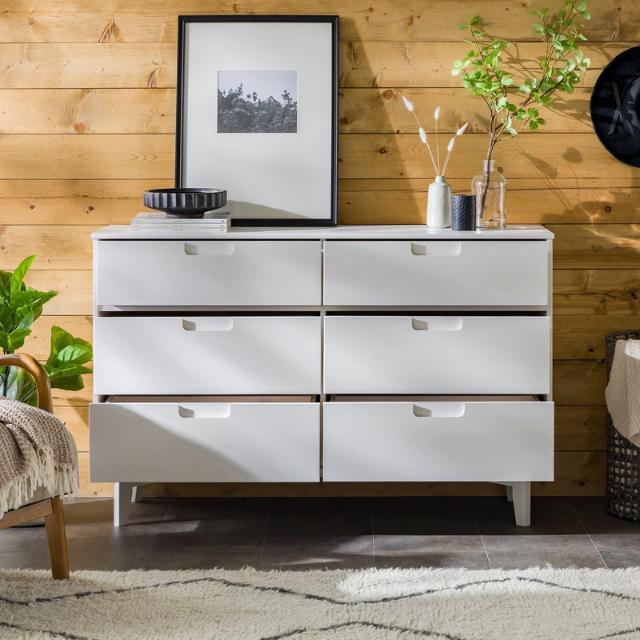dresser: (81, 201, 575, 544)
